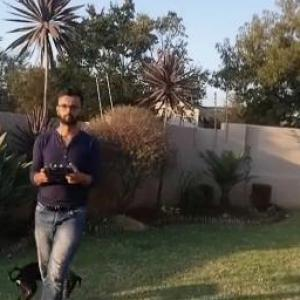follow: (21, 80, 104, 299)
